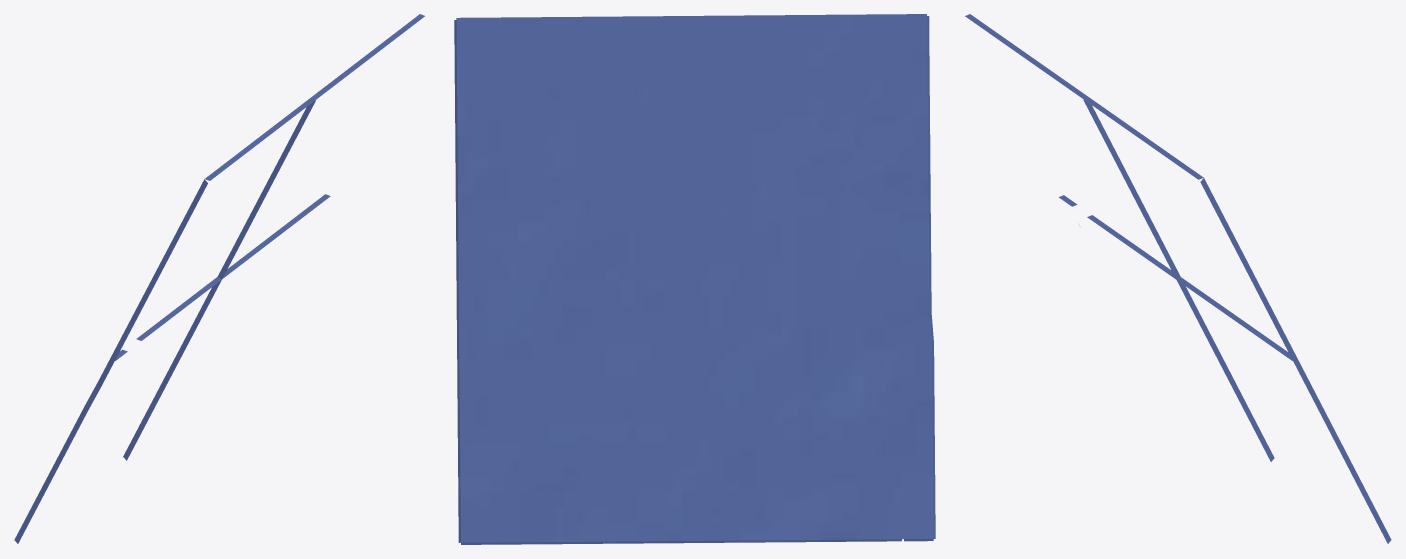
3 views of the same model, side by side, from view 1: azimuth 30°, elevation 25°; view 2: azimuth 150°, elevation 25°; view 3: azimuth 270°, elevation 25° (orthographic). The views are drawn at different scales.
Size of the model in its own units: 39523 by 35624 by 33302.
1 material, 1 textured.
